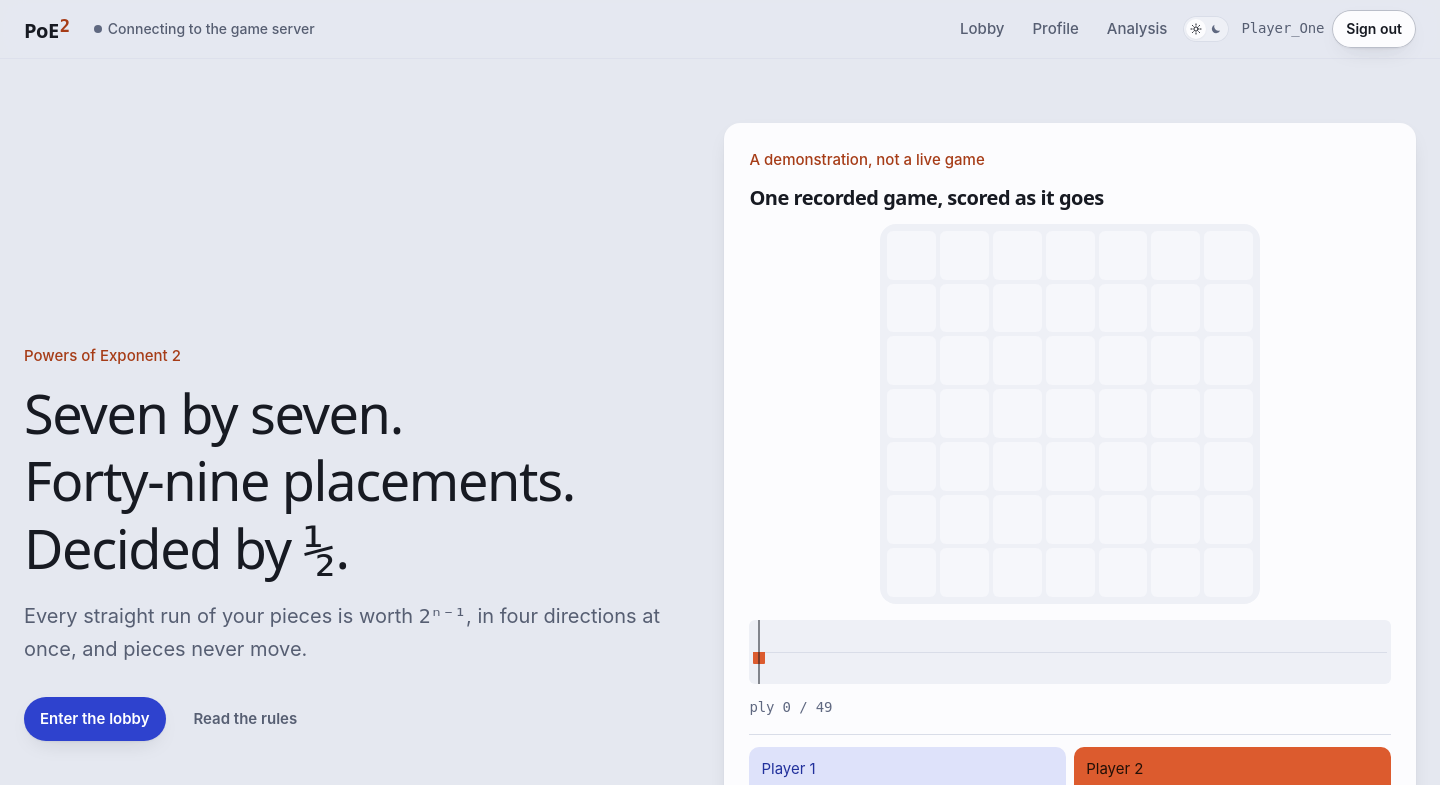
the landing page's rules › opens the same rules for a signed-in player
The image size is (1440, 785).
Expected: the link "Enter the lobby" is shown, [24, 697, 166, 741]
Click the button "Read the rules": coordinates (245, 719) [178, 697, 313, 741]
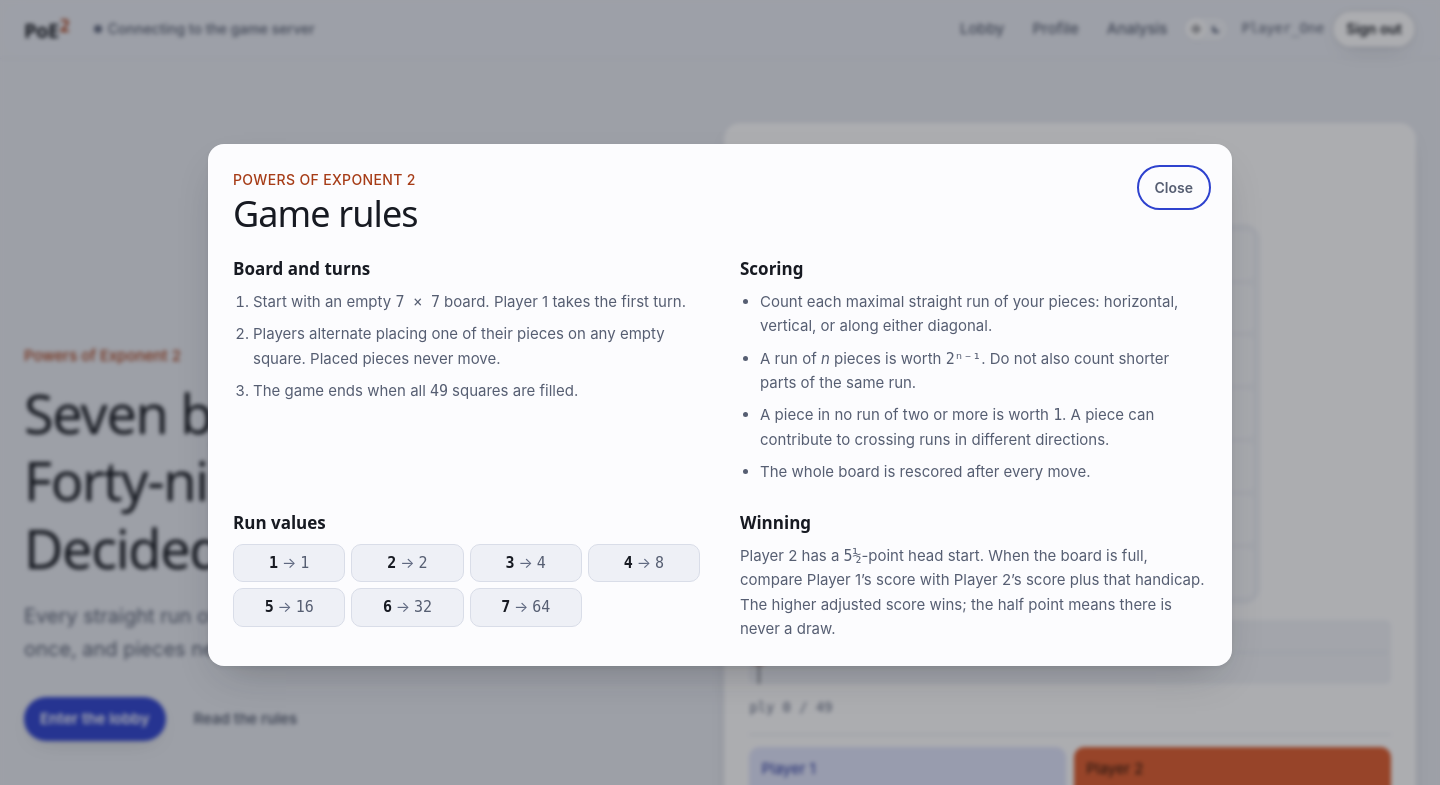
Now the dialog "Game rules" is shown, box [208, 144, 1232, 666]
